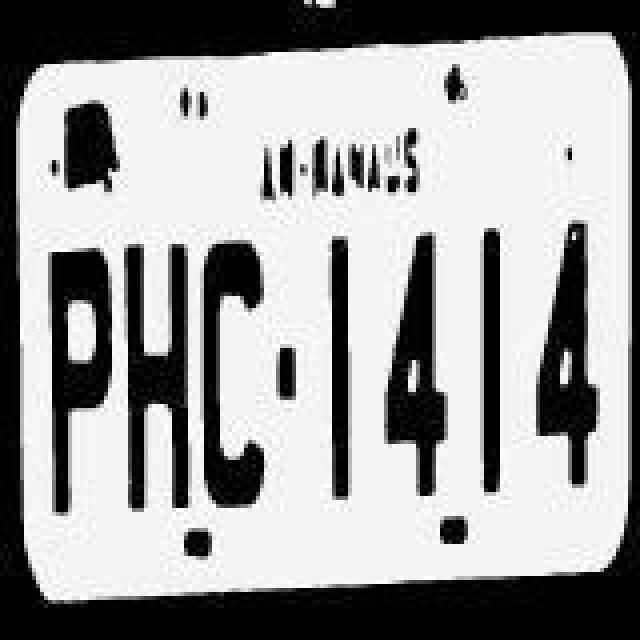1: (468, 220, 516, 500), (322, 218, 366, 502)
4: (530, 198, 614, 490), (382, 228, 458, 500)
C: (200, 232, 280, 520)
H: (118, 236, 194, 516)
P: (40, 238, 120, 530)
